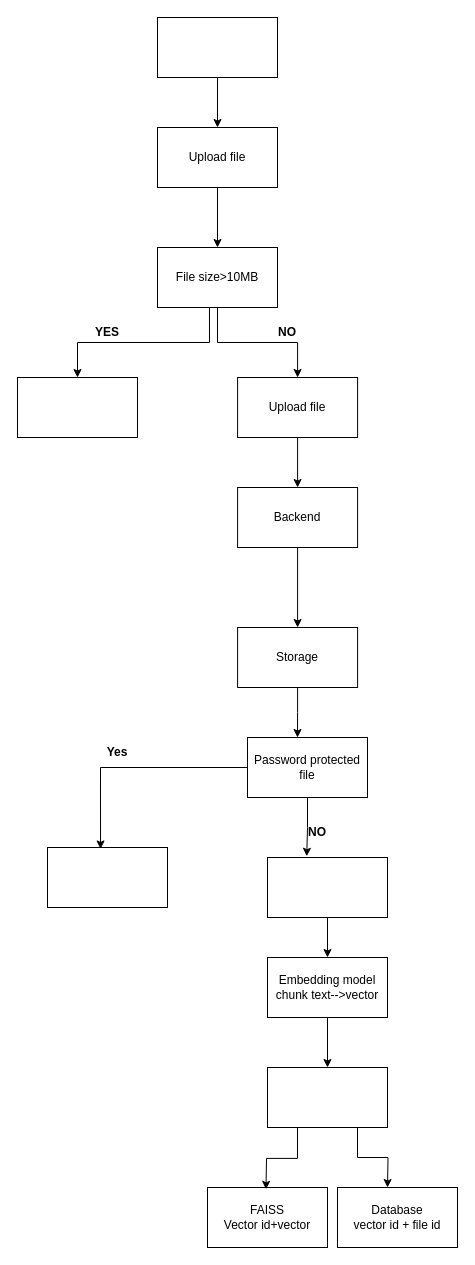
Some shapes in this 475 by 1265 pixel diagram are drawn without their labels. The shapes that lost their labels are listed below. From the top down, each one's centre as x and y in pixels, then its label:
At point 217,47: "User".
At point 77,407: "Upload Denied".
At point 107,877: "No indexing".
At point 327,887: "Chunking files".
At point 327,1097: "Backend assigns vector id".
